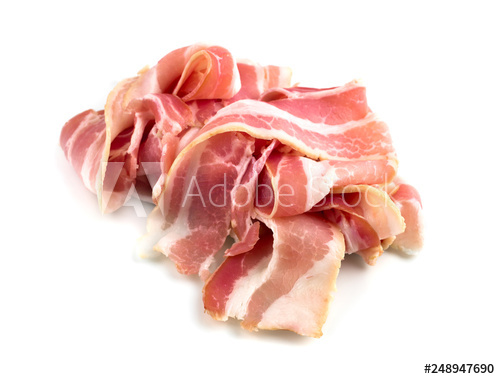bacon: (83, 51, 418, 341)
